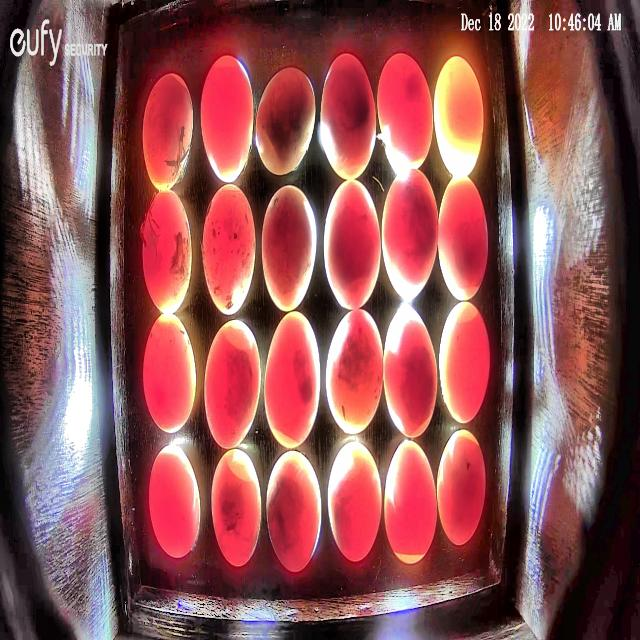FE: (263, 311, 321, 449), (381, 167, 438, 303), (323, 179, 381, 311), (325, 307, 384, 435), (260, 185, 318, 312), (205, 318, 261, 449), (320, 52, 377, 180), (202, 184, 257, 316), (200, 53, 254, 184), (383, 306, 437, 437), (266, 449, 322, 574), (383, 439, 438, 565), (377, 52, 433, 172), (438, 299, 491, 425), (255, 67, 316, 175), (143, 313, 196, 435), (328, 442, 382, 561), (438, 176, 488, 302), (142, 72, 194, 192), (142, 191, 192, 314), (211, 448, 262, 568), (148, 444, 201, 559), (436, 428, 486, 546)
UF: (434, 55, 484, 177)
